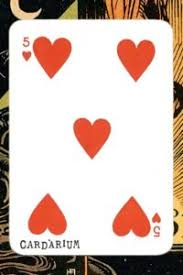five of hearts: (9, 19, 172, 255)
